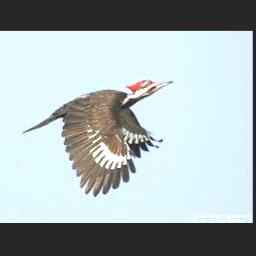Woodpecker: (22, 79, 172, 197)
